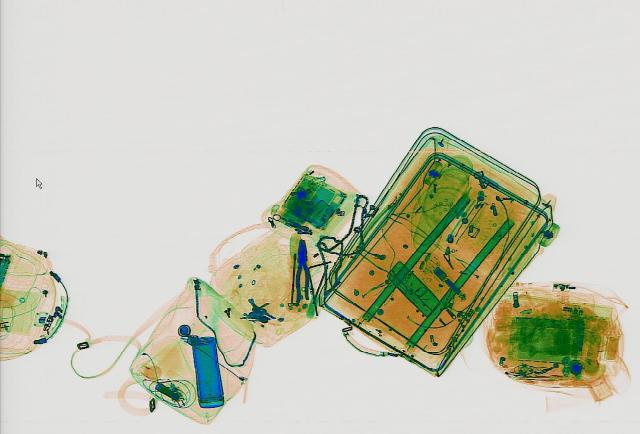Pliers: (294, 239, 310, 301)
